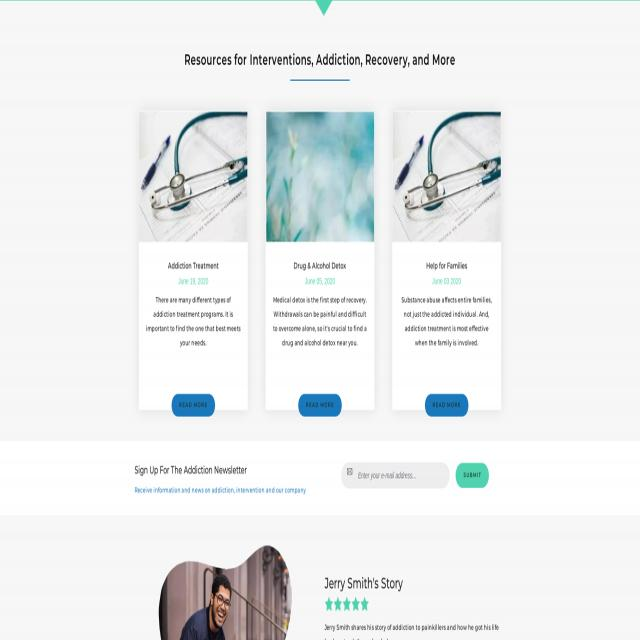button: (138, 110, 248, 410), (392, 110, 502, 410), (266, 110, 374, 412), (149, 536, 294, 640), (171, 394, 215, 417), (298, 394, 342, 417), (425, 394, 469, 417), (455, 463, 489, 488), (315, 0, 333, 16), (344, 466, 356, 481), (324, 596, 334, 612), (342, 596, 352, 612), (333, 596, 342, 612), (352, 596, 361, 612), (360, 596, 369, 612)
field: (342, 462, 448, 488)
